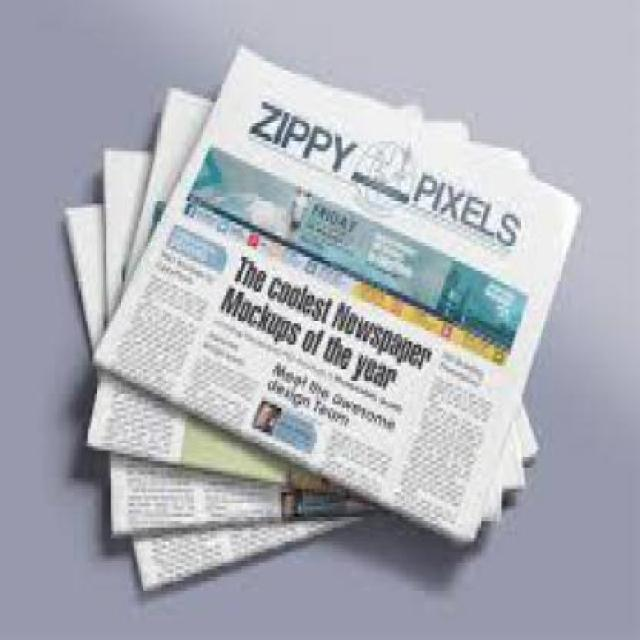PAPER: (88, 28, 575, 542), (82, 84, 522, 496), (98, 144, 524, 538), (60, 200, 382, 594)
